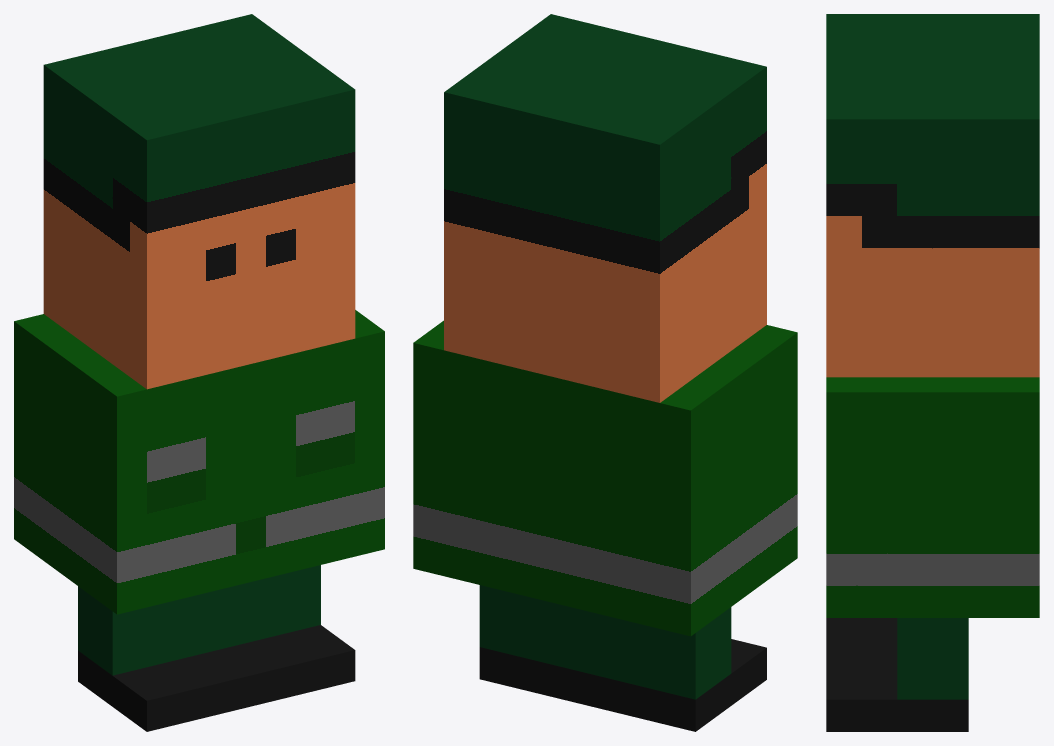
Rendered from paco.fbx.
3 views of the same model, side by side, from view 1: azimuth 30°, elevation 25°; view 2: azimuth 150°, elevation 25°; view 3: azimuth 270°, elevation 25° (orthographic). The views are drawn at different scales.
Visible parts, largest first — view 1: _747; view 2: _747; view 3: _747.
Boxes of the visible parts, bbox=[...] form: _747: bbox=[14, 14, 384, 731]; _747: bbox=[413, 14, 797, 731]; _747: bbox=[826, 14, 1039, 731].
Bounding box in the file's own units: 9 × 19 × 6.
